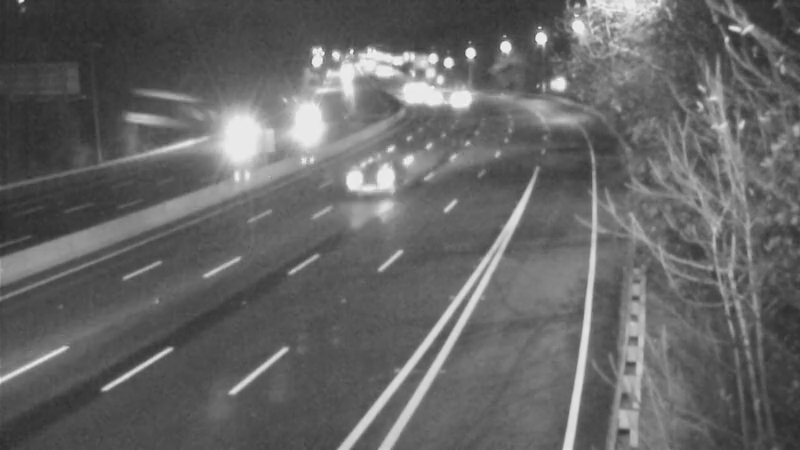vehicle: (337, 134, 417, 214), (408, 73, 458, 123), (390, 72, 440, 122), (433, 72, 483, 122), (217, 115, 267, 165), (276, 92, 326, 142)
